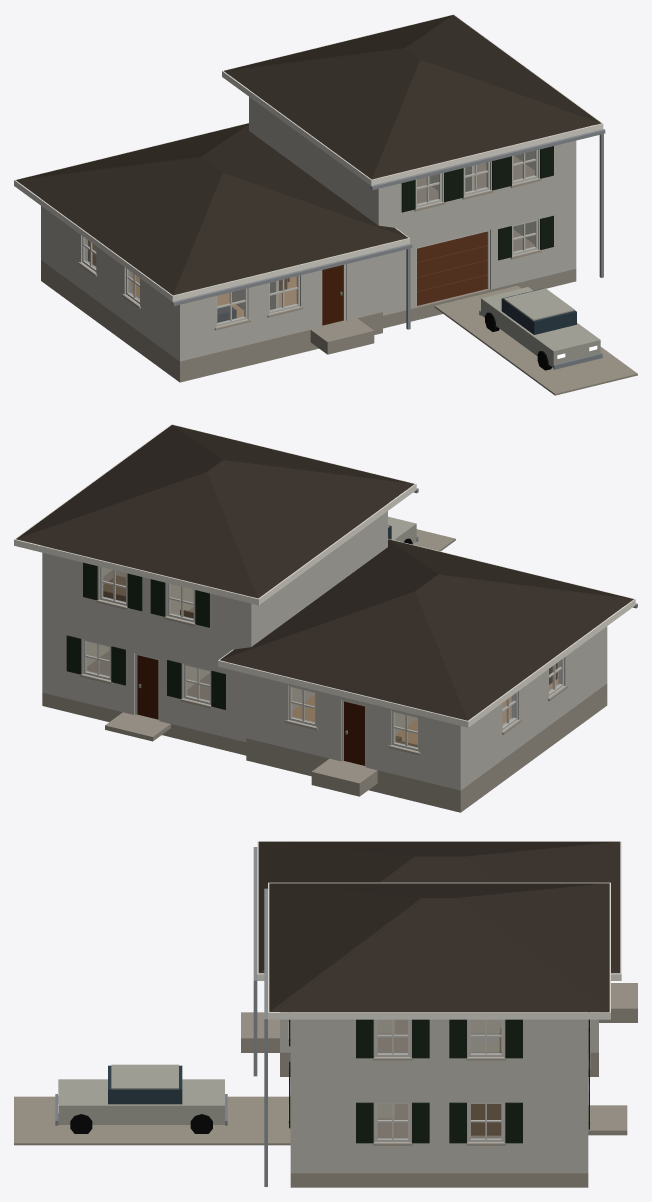
Rendered from split_b.glb.
3 renders of one model, top to bottom at view 1: azimuth 30°, elevation 25°; view 2: azimuth 150°, elevation 25°; view 3: azimuth 270°, elevation 25°, orthographic. The views are drawn at different scales.
Parts seen in each view (by area): view 1: LOD0, LEAF0; view 2: LOD0, LEAF2, LEAF1, FURN; view 3: LOD0.
Boxes of the visible parts, <box> form: LOD0: <box>14,14,637,395</box>; LEAF0: <box>322,265,343,325</box>; LOD0: <box>14,424,637,812</box>; LEAF2: <box>137,655,158,719</box>; LEAF1: <box>344,701,364,765</box>; FURN: <box>103,575,557,747</box>; LOD0: <box>14,841,637,1187</box>.
Size of what is drawn, in the model's own units: 16.32 by 7.3 by 17.6.
